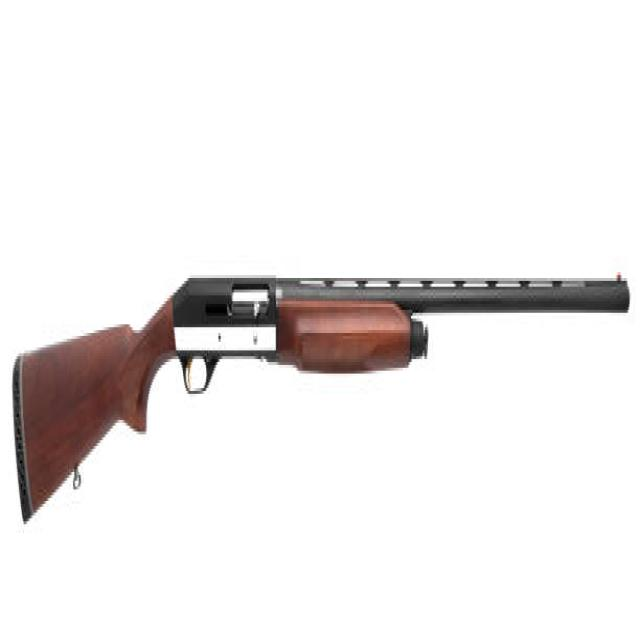rifle: (7, 248, 632, 554)
